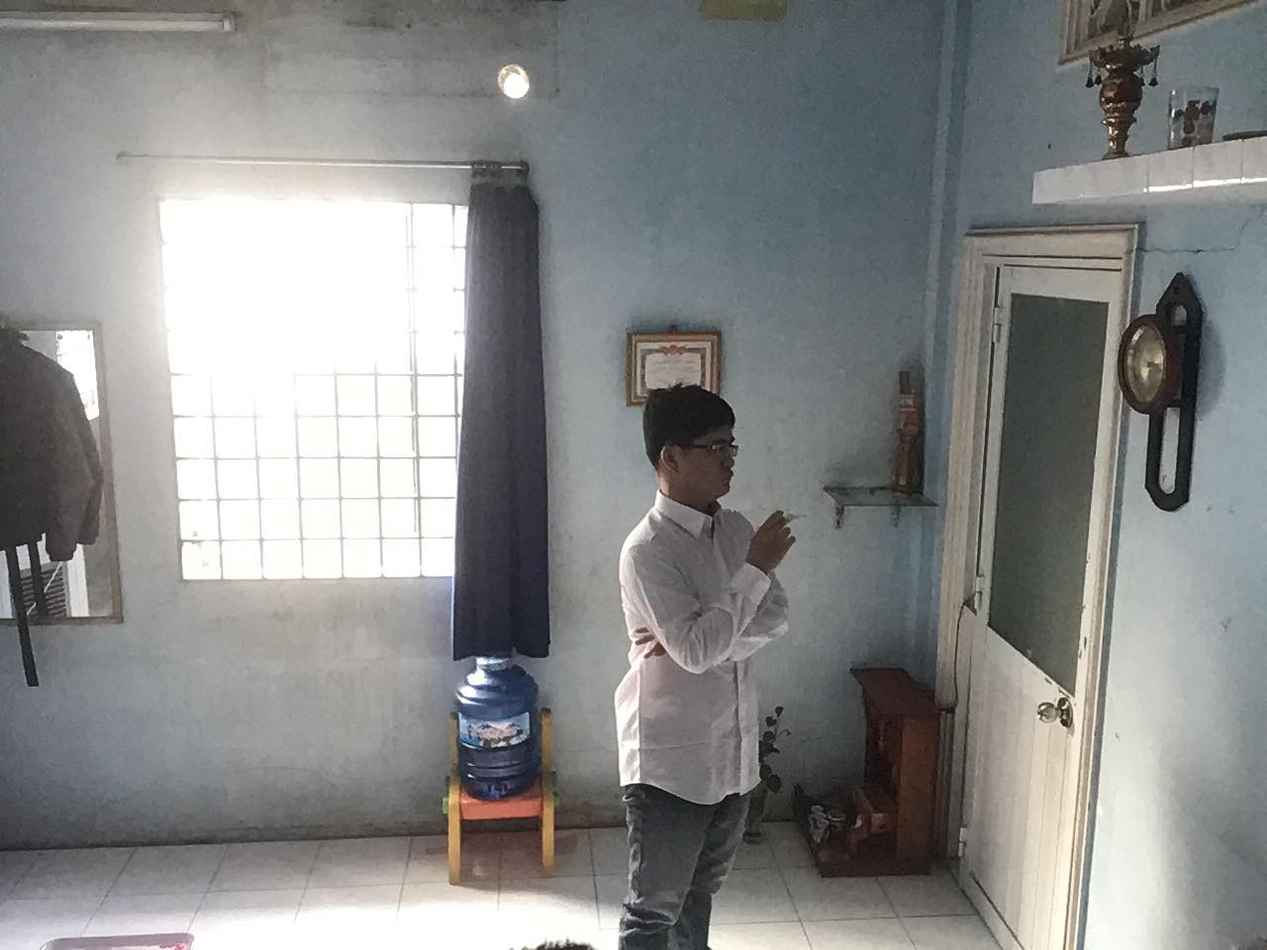cigarette: (785, 502, 811, 531)
person: (603, 365, 814, 950)
